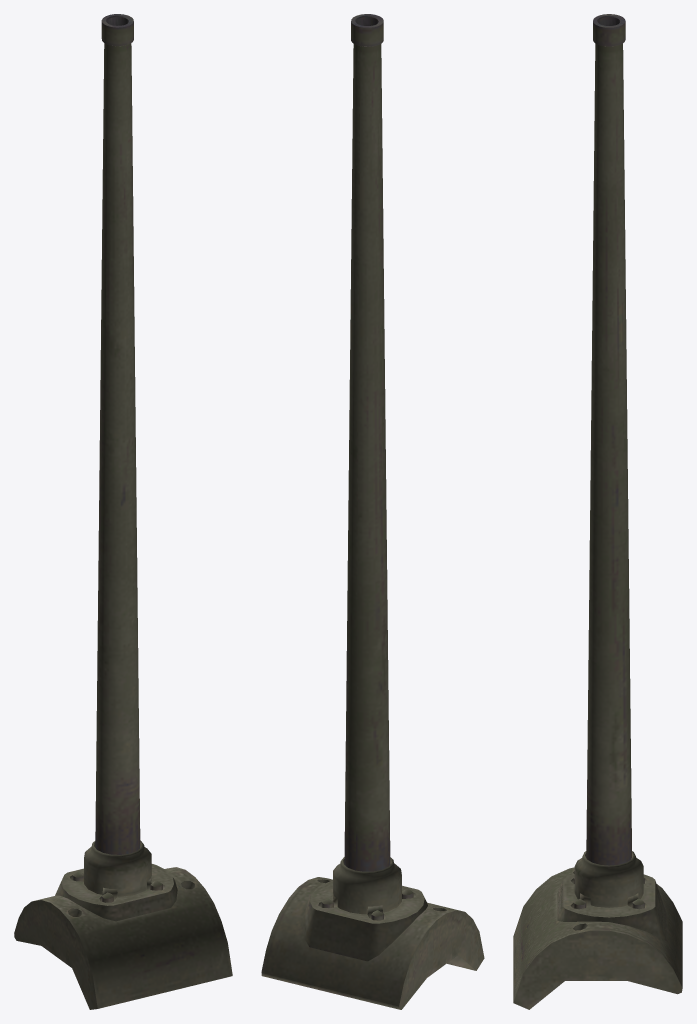
The model's file is Gun_02.glb.
3 renders of one model, left to right at view 1: azimuth 30°, elevation 25°; view 2: azimuth 150°, elevation 25°; view 3: azimuth 270°, elevation 25°, orthographic. The views are drawn at different scales.
Visible parts, largest first — view 1: set_0_group_0; view 2: set_0_group_0; view 3: set_0_group_0.
Boxes of the visible parts, bbox=[...] form: set_0_group_0: bbox=[14, 14, 232, 1009]; set_0_group_0: bbox=[261, 14, 484, 1009]; set_0_group_0: bbox=[513, 14, 682, 1009].
Size of the model in its own units: 0.6034 by 4.03 by 0.6466.
1 material, 1 textured.
